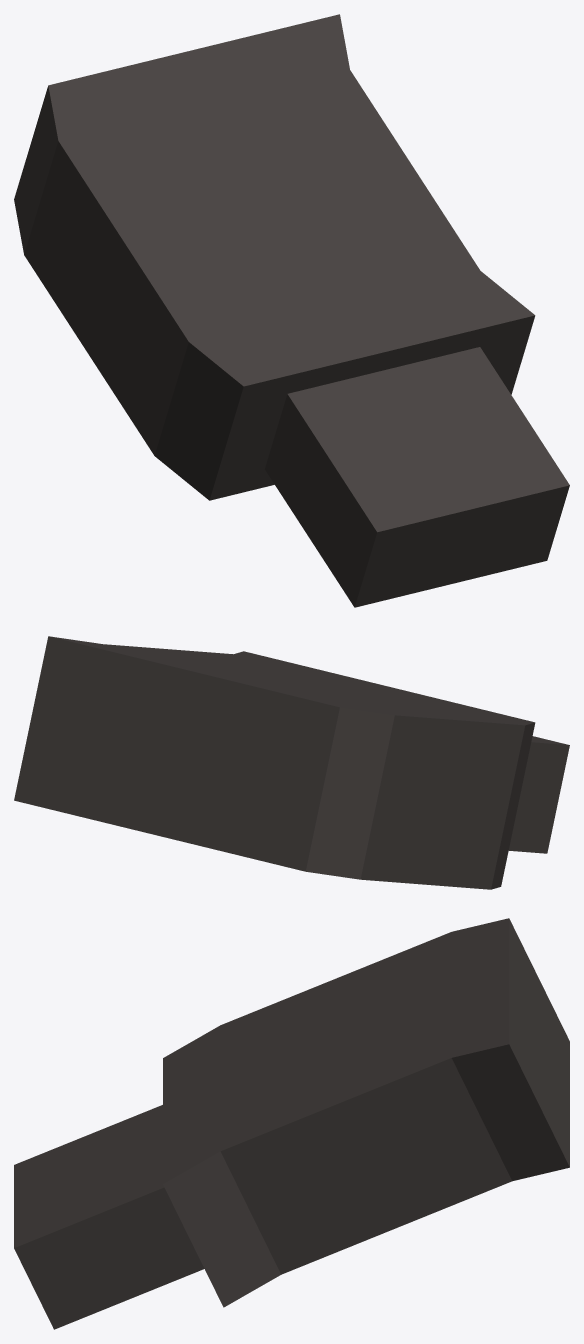
The model's file is SMG2_03_4.fbx.
3 views of the same model, one above another, from view 1: azimuth 30°, elevation 25°; view 2: azimuth 150°, elevation 25°; view 3: azimuth 270°, elevation 25° (orthographic). The views are drawn at different scales.
Visible parts, largest first — view 1: SMG2_03_4; view 2: SMG2_03_4; view 3: SMG2_03_4.
Boxes of the visible parts, bbox=[...] form: SMG2_03_4: bbox=[14, 14, 569, 607]; SMG2_03_4: bbox=[14, 636, 569, 889]; SMG2_03_4: bbox=[14, 918, 569, 1329].
Size of the model in its own units: 0.0118 by 0.0124 by 0.0204.
